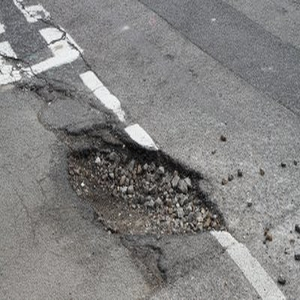pothole: (62, 126, 228, 243)
